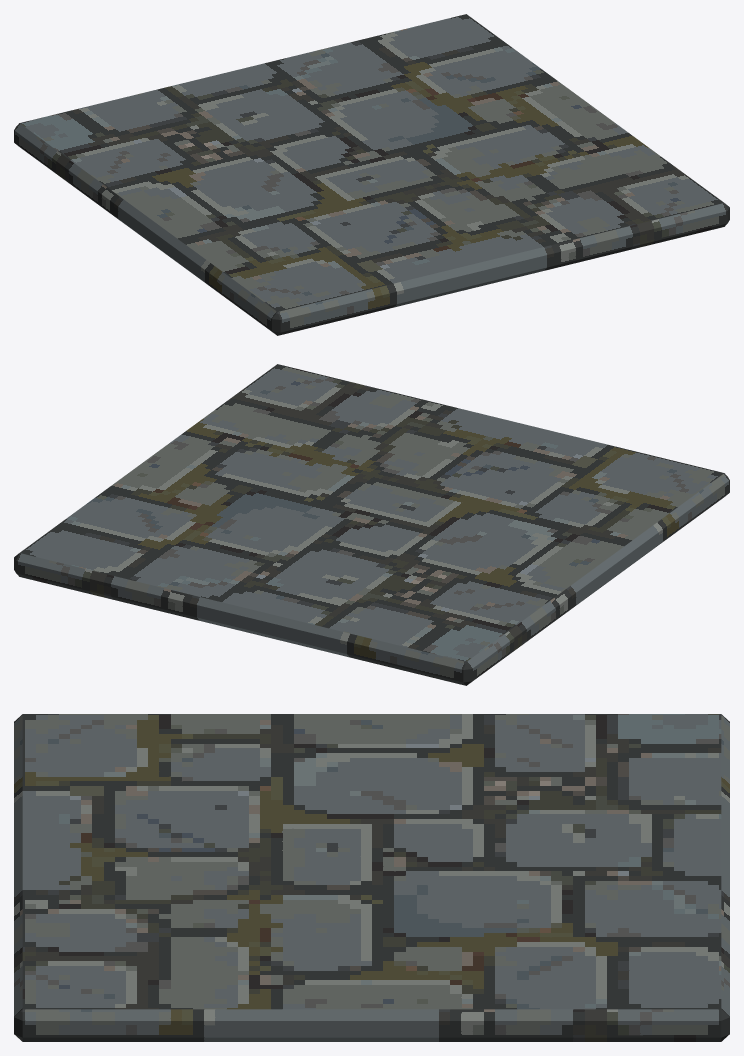
Rendered from topo_a.fbx.
The picture shows the model from 3 angles, top to bottom: view 1: azimuth 30°, elevation 25°; view 2: azimuth 150°, elevation 25°; view 3: azimuth 270°, elevation 25°; orthographic projection. The views are drawn at different scales.
Parts seen in each view (by area): view 1: pedreira_topo_a; view 2: pedreira_topo_a; view 3: pedreira_topo_a.
Boxes of the visible parts, <box> form: pedreira_topo_a: <box>14,14,729,335</box>; pedreira_topo_a: <box>14,364,729,685</box>; pedreira_topo_a: <box>14,714,729,1041</box>.
Size of the model in its own units: 100 by 5 by 100.
Materials: 1 (1 with a texture image).
